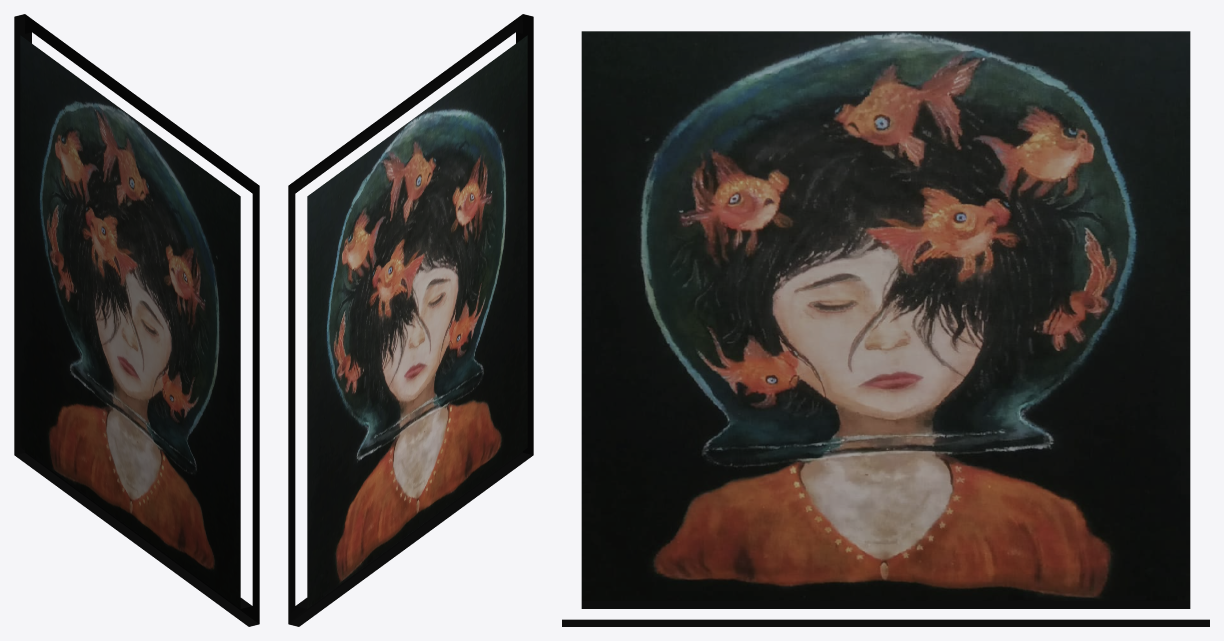
The model's file is mistakenIdentity.glb.
3 views of the same model, side by side, from view 1: azimuth 30°, elevation 25°; view 2: azimuth 150°, elevation 25°; view 3: azimuth 270°, elevation 25° (orthographic). The views are drawn at different scales.
Visible parts, largest first — view 1: mistakenIdentity; view 2: mistakenIdentity; view 3: mistakenIdentity.
Part boxes in pixels (left/top/right/bottom): mistakenIdentity: left=14, top=14, right=259, bottom=626; mistakenIdentity: left=288, top=14, right=533, bottom=626; mistakenIdentity: left=562, top=31, right=1209, bottom=626.
Size of the model in its own units: 0.0169 by 0.5318 by 0.5153.
2 materials, 1 textured.
